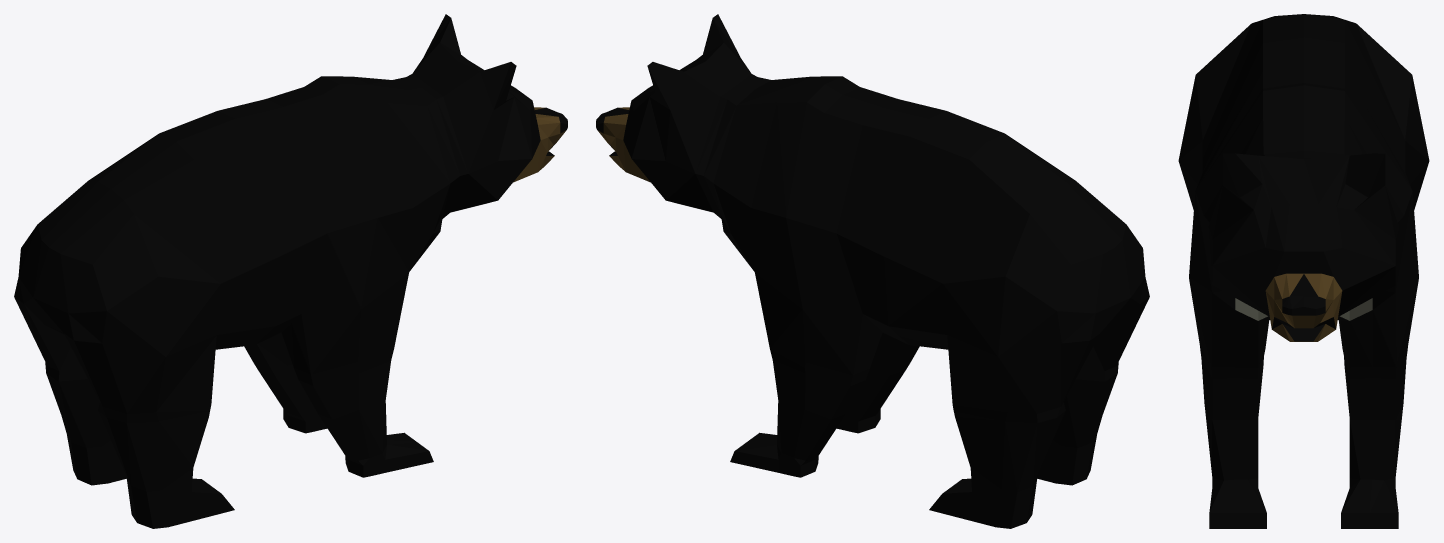
Rendered from black_bear.glb.
The picture shows the model from 3 angles, left to right: view 1: azimuth 30°, elevation 25°; view 2: azimuth 150°, elevation 25°; view 3: azimuth 270°, elevation 25°; orthographic projection. The views are drawn at different scales.
Parts seen in each view (by area): view 1: Plane; view 2: Plane; view 3: Plane.
Part boxes in pixels (<box>): Plane: <box>14,14,567,528</box>; Plane: <box>596,14,1149,528</box>; Plane: <box>1178,14,1429,528</box>.
Size of the model in its own units: 1.5 by 1.01 by 0.5384.
